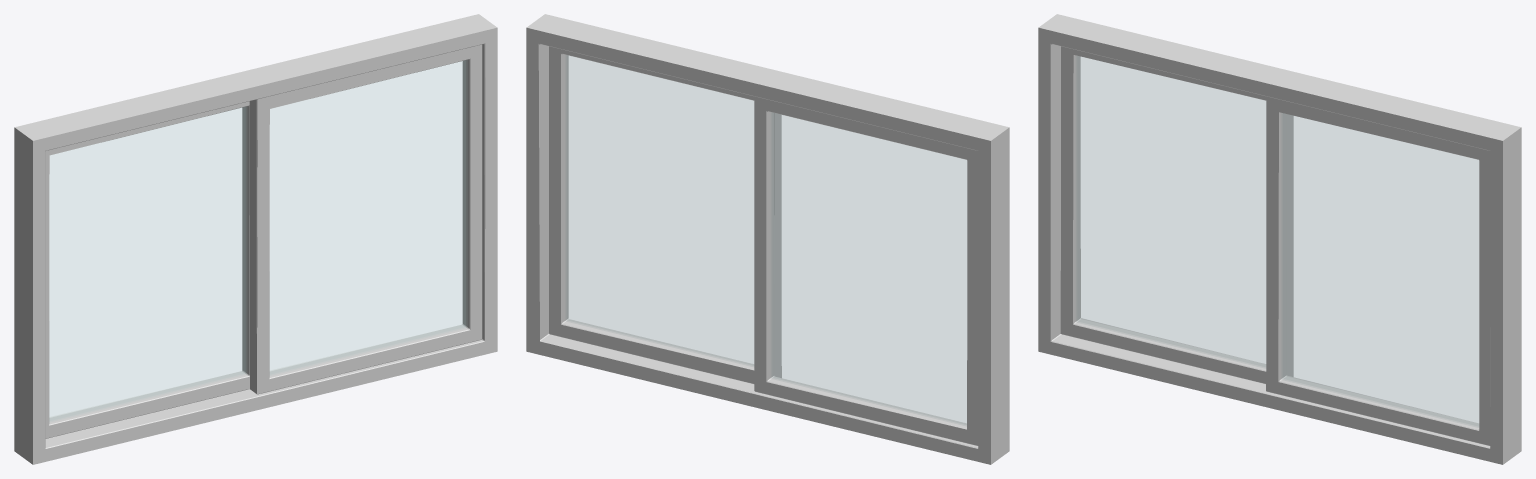
Rendered from Glass_Sliding_Window.fbx.
3 views of the same model, side by side, from view 1: azimuth 30°, elevation 25°; view 2: azimuth 150°, elevation 25°; view 3: azimuth 330°, elevation 25° (orthographic).
Visible parts, largest first — view 1: Glass_window_sliding; view 2: Glass_window_sliding; view 3: Glass_window_sliding.
Boxes of the visible parts, left/top/right/bottom form: Glass_window_sliding: left=14, top=14, right=497, bottom=464; Glass_window_sliding: left=526, top=14, right=1009, bottom=464; Glass_window_sliding: left=1038, top=14, right=1521, bottom=464.
Bounding box in the file's own units: 180 × 120 × 12.5.
